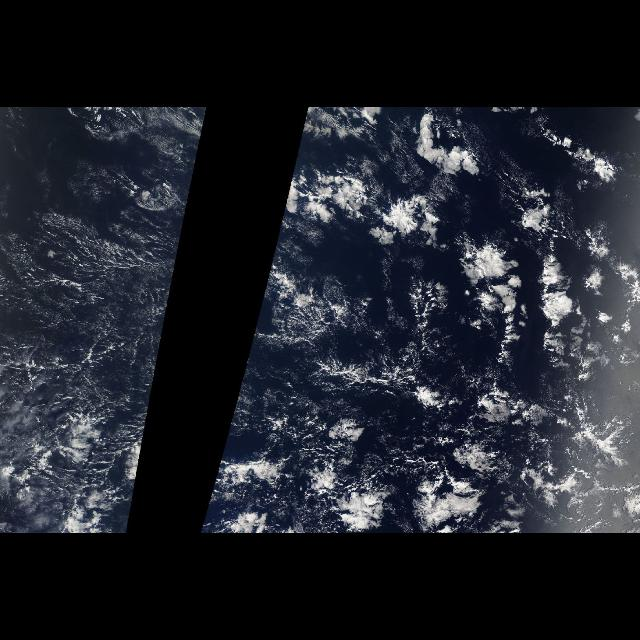Flower: (225, 111, 639, 534)
Gravel: (235, 270, 628, 488), (3, 221, 166, 527)
Sugar: (6, 143, 200, 494)
